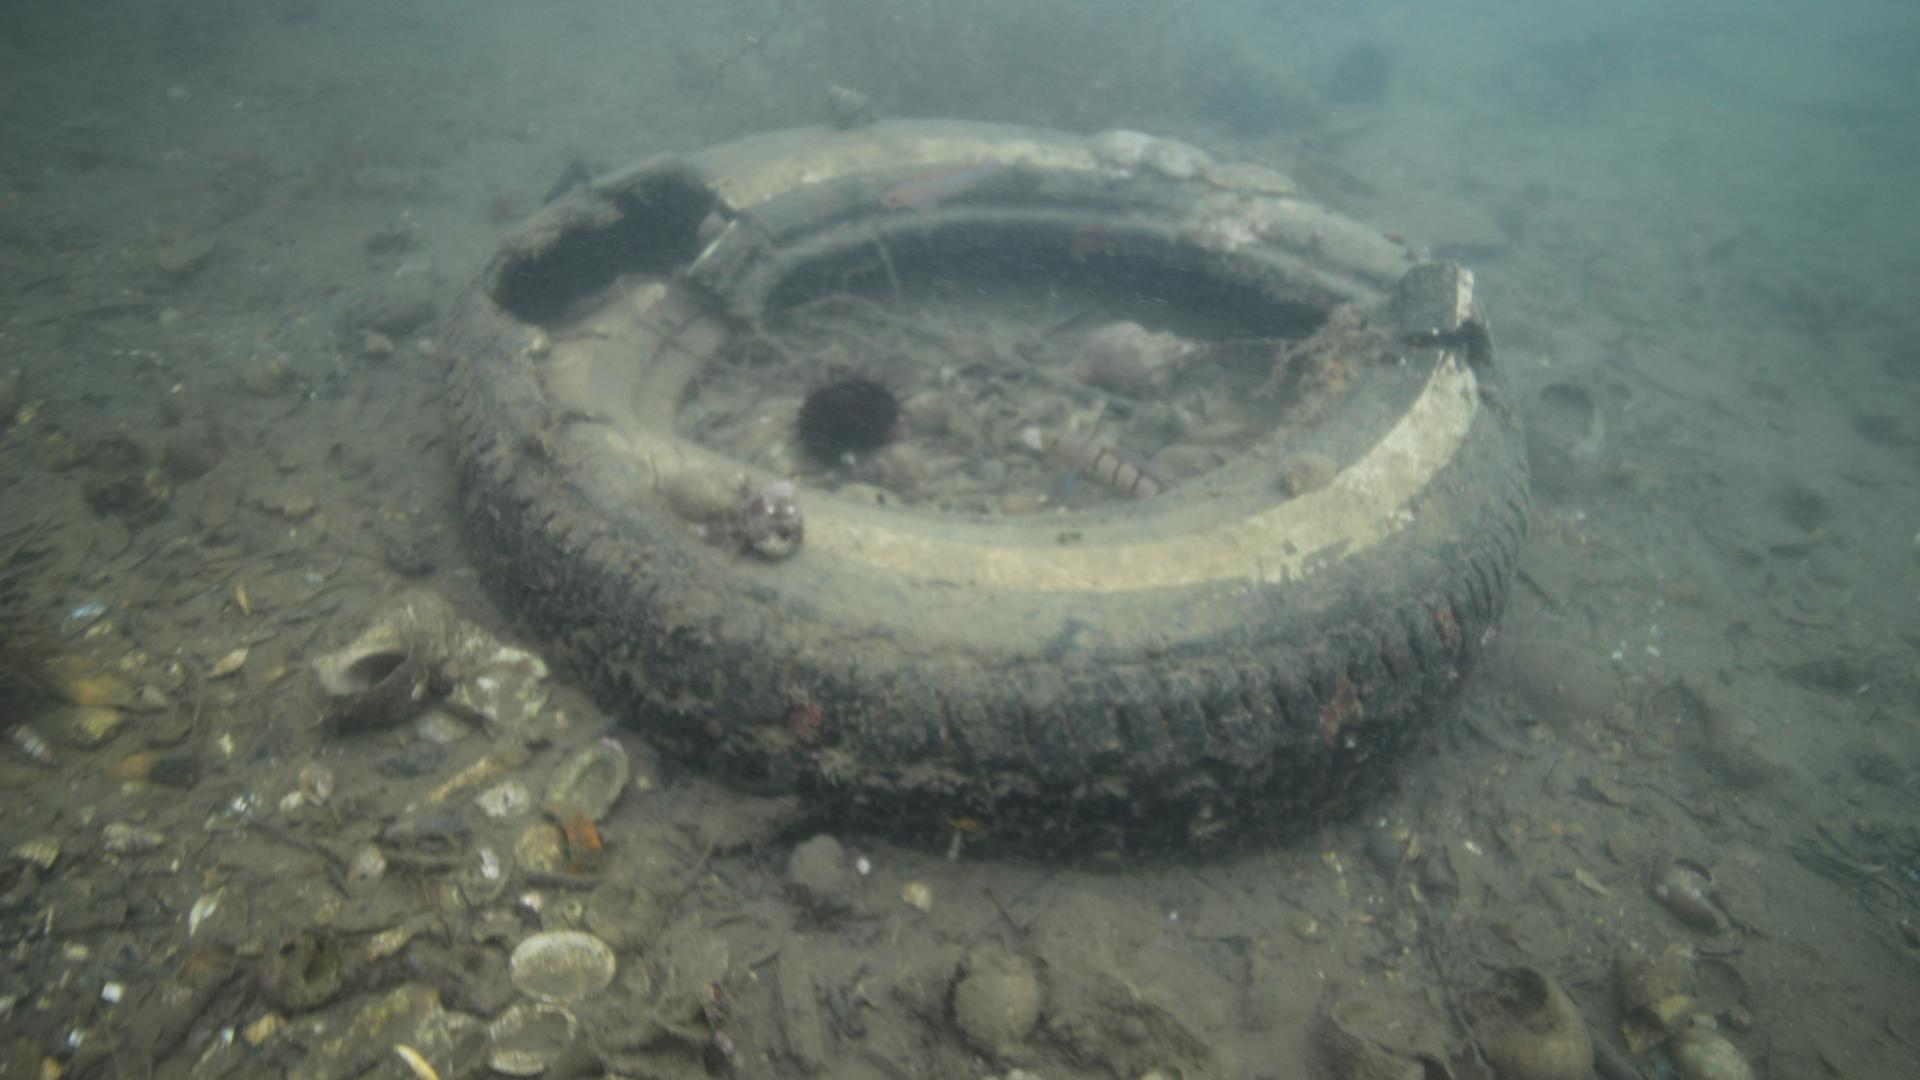tire: (436, 113, 1528, 872)
